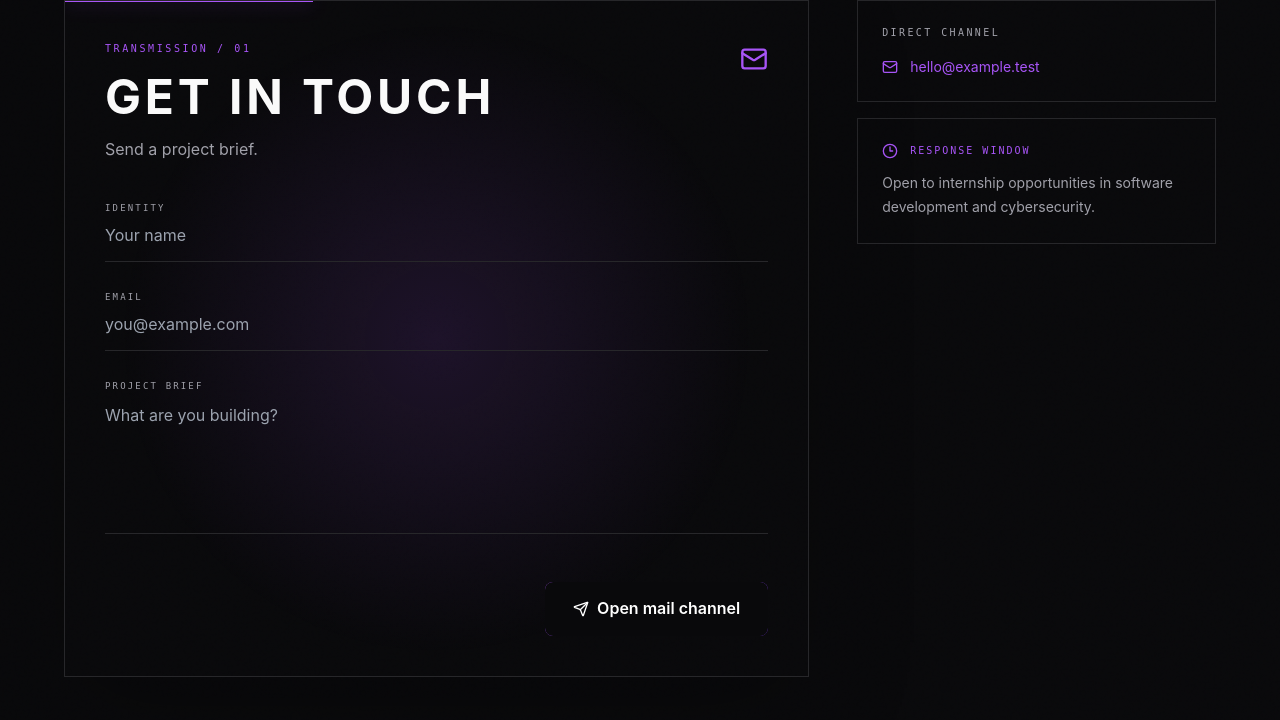
ContactCommandForm › creates a mail draft after a valid user submission
Type "Ada" into the field labelled "IDENTITY" at (437, 235), box left=105, top=223, right=768, bottom=247
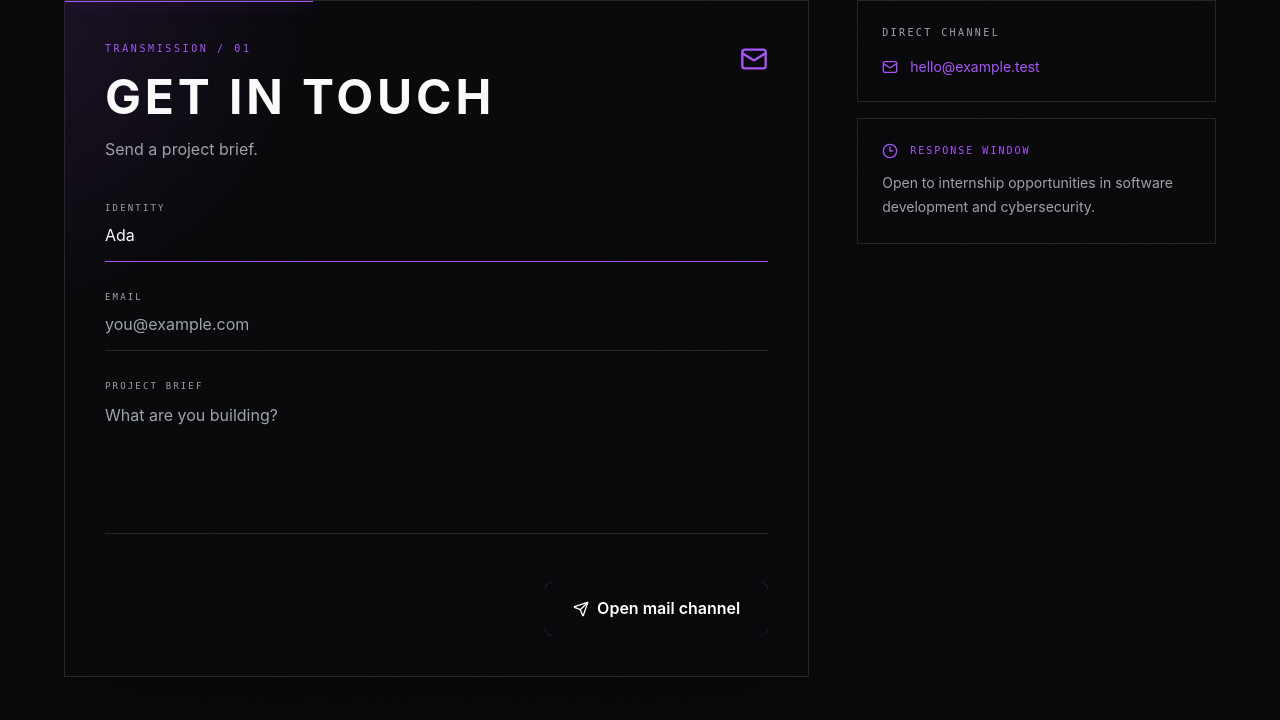
Type "ada@example.com" into the field labelled "EMAIL" at (437, 324), box left=105, top=312, right=768, bottom=336
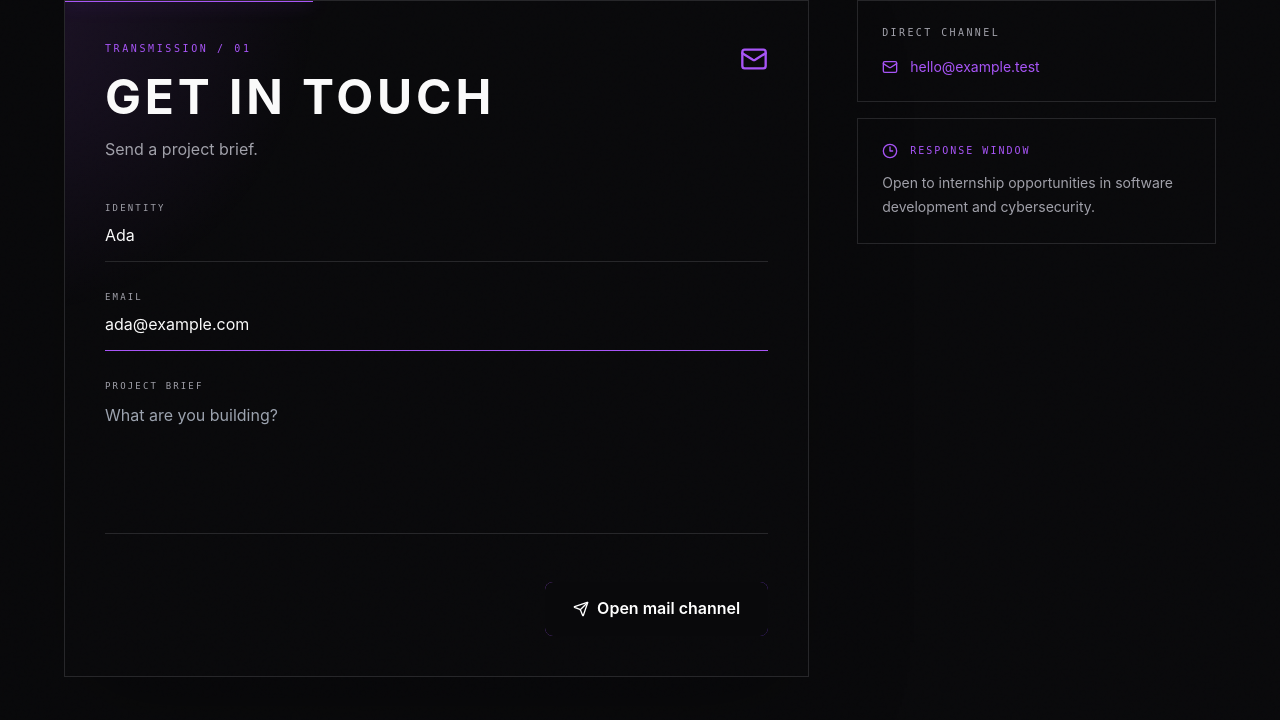
Type "A browser QA suite" into the text box labelled "PROJECT BRIEF" at (437, 457), box left=105, top=401, right=768, bottom=513
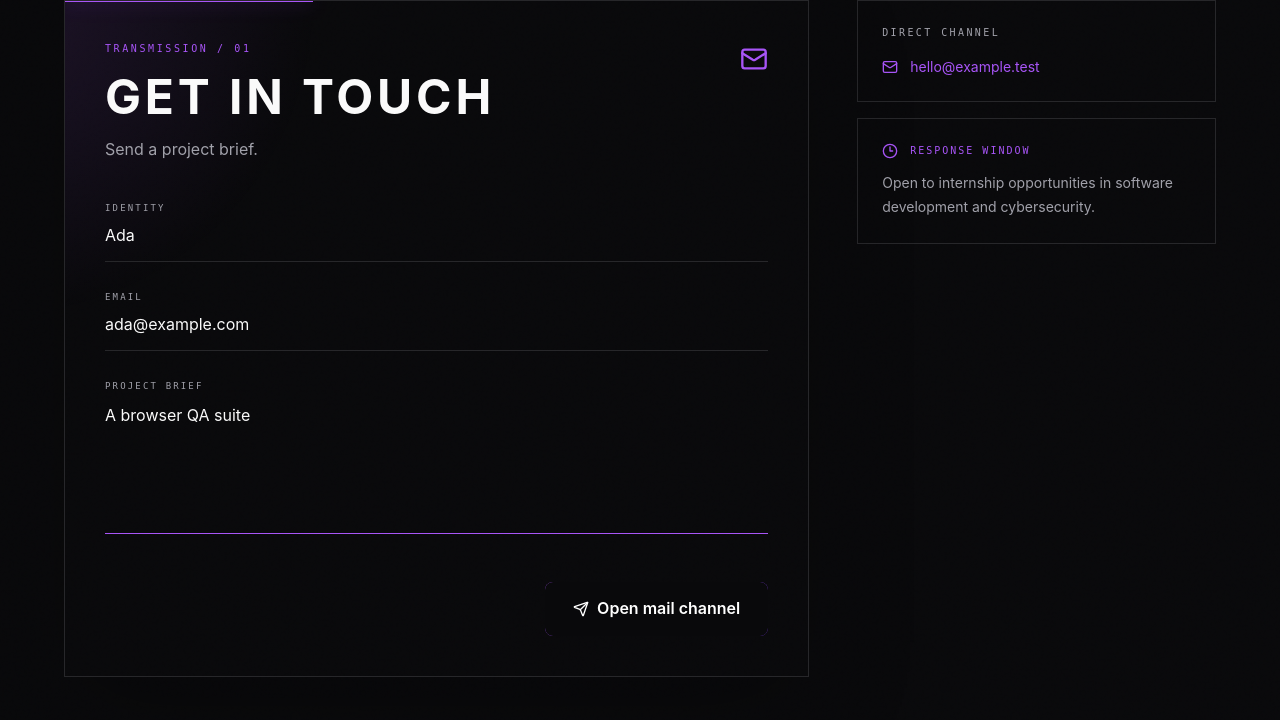
Click the button "Open mail channel" at (657, 601), box left=545, top=566, right=768, bottom=636
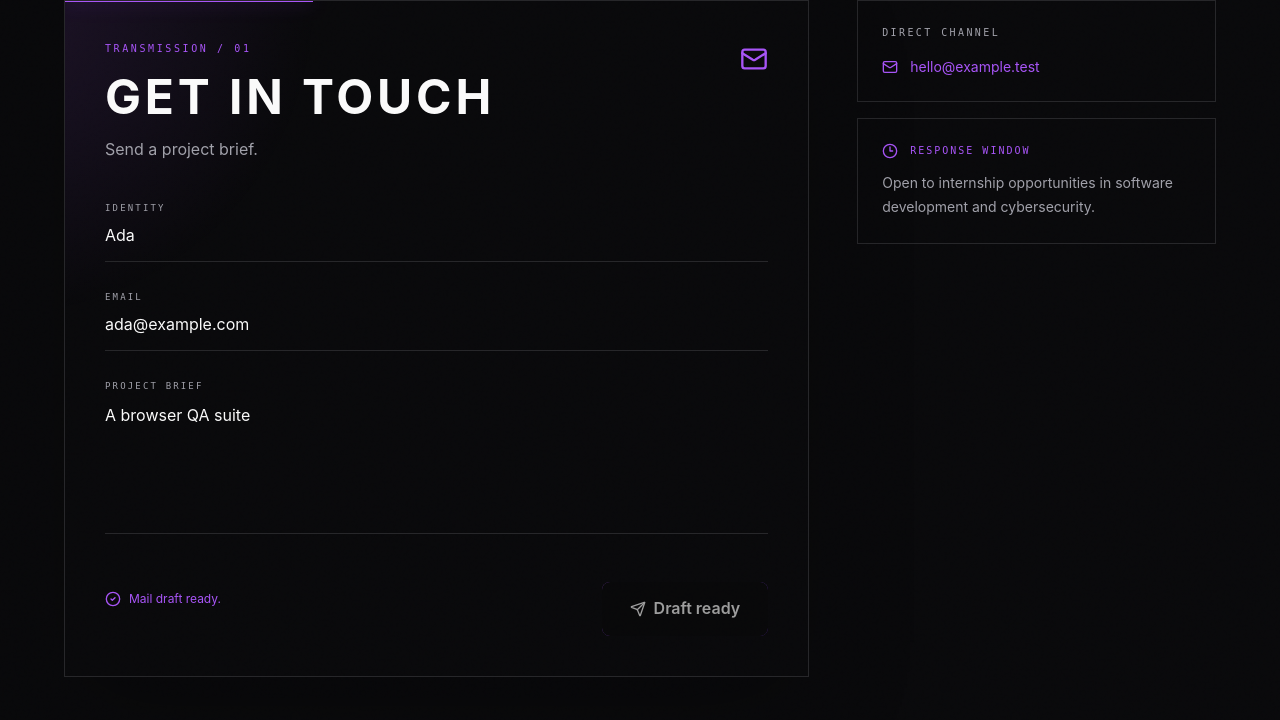
Now the text "Mail draft ready." is shown, box left=105, top=591, right=221, bottom=607
Now the button "Draft ready" is disabled, box left=602, top=566, right=768, bottom=636
